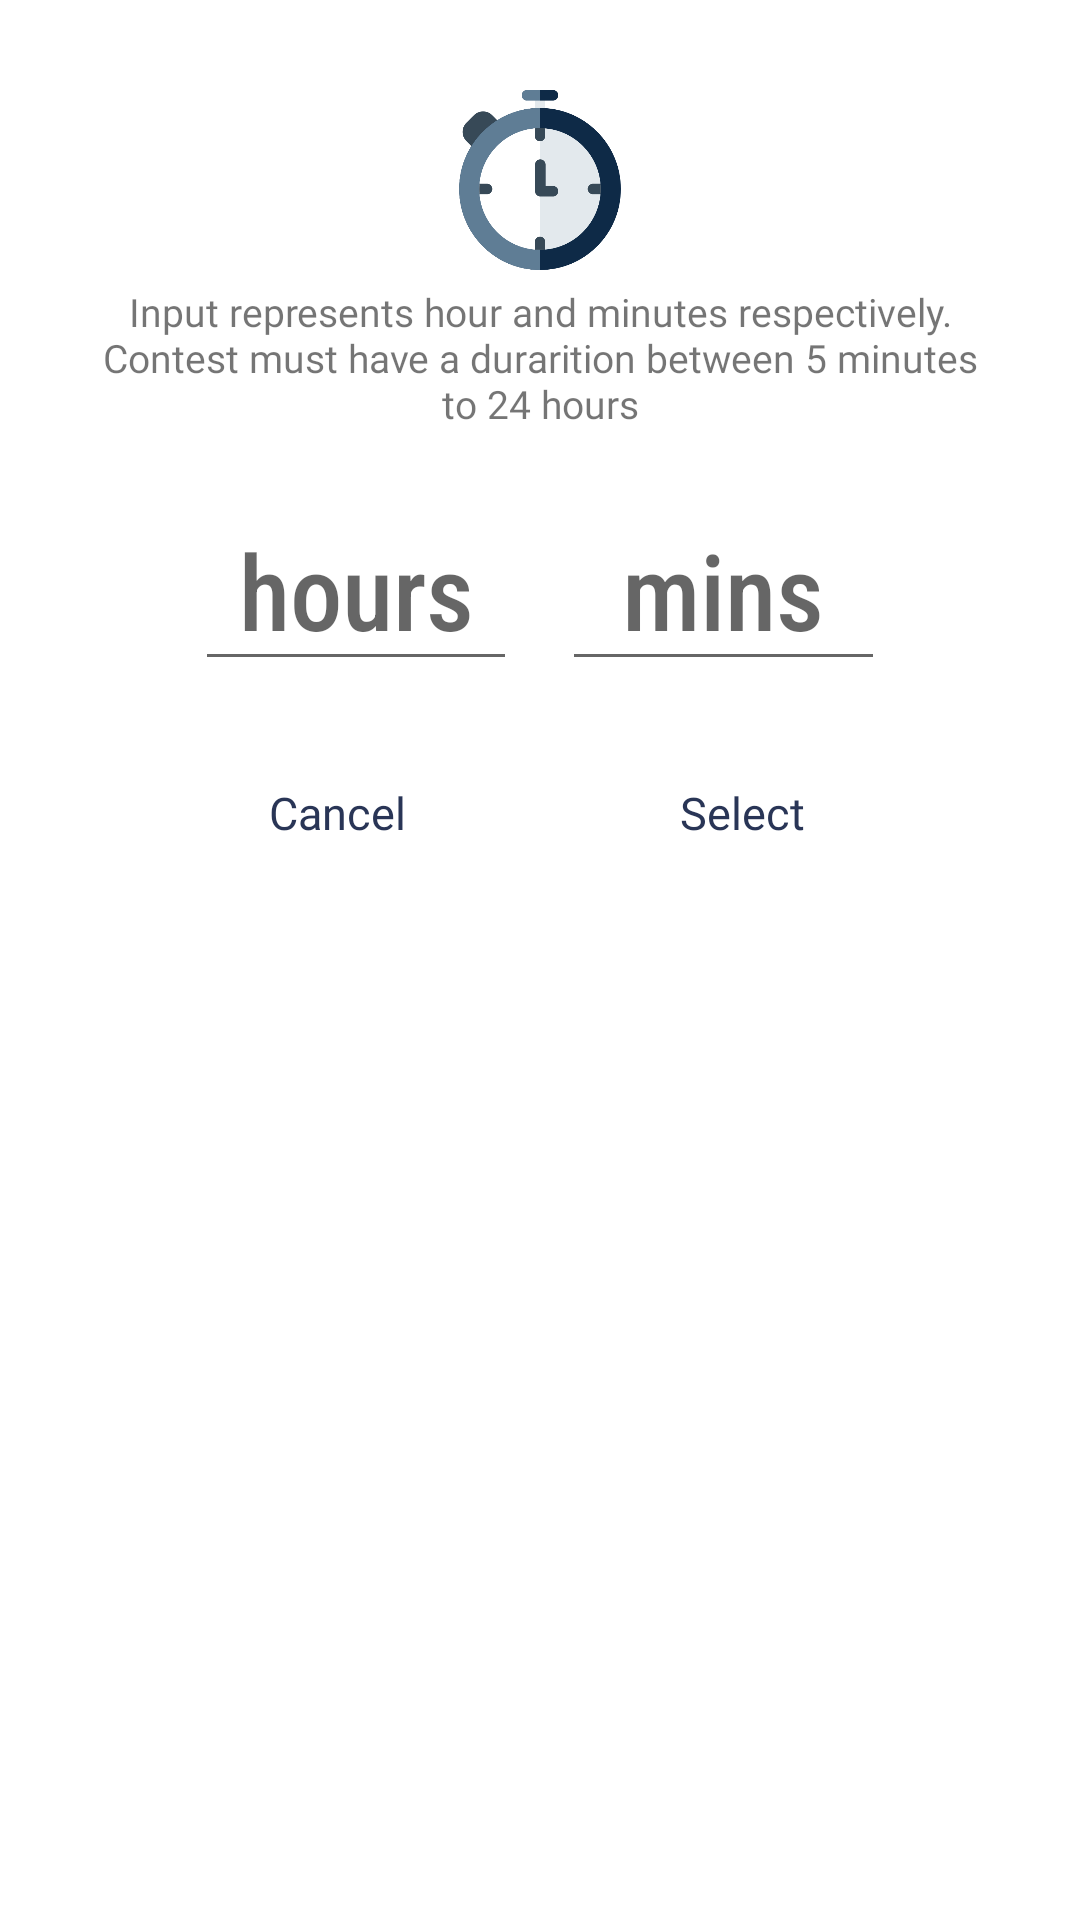

Icon click points for this 1080×1920 phone screenshot, format [x,y]:
stopwatch: [540,180]
